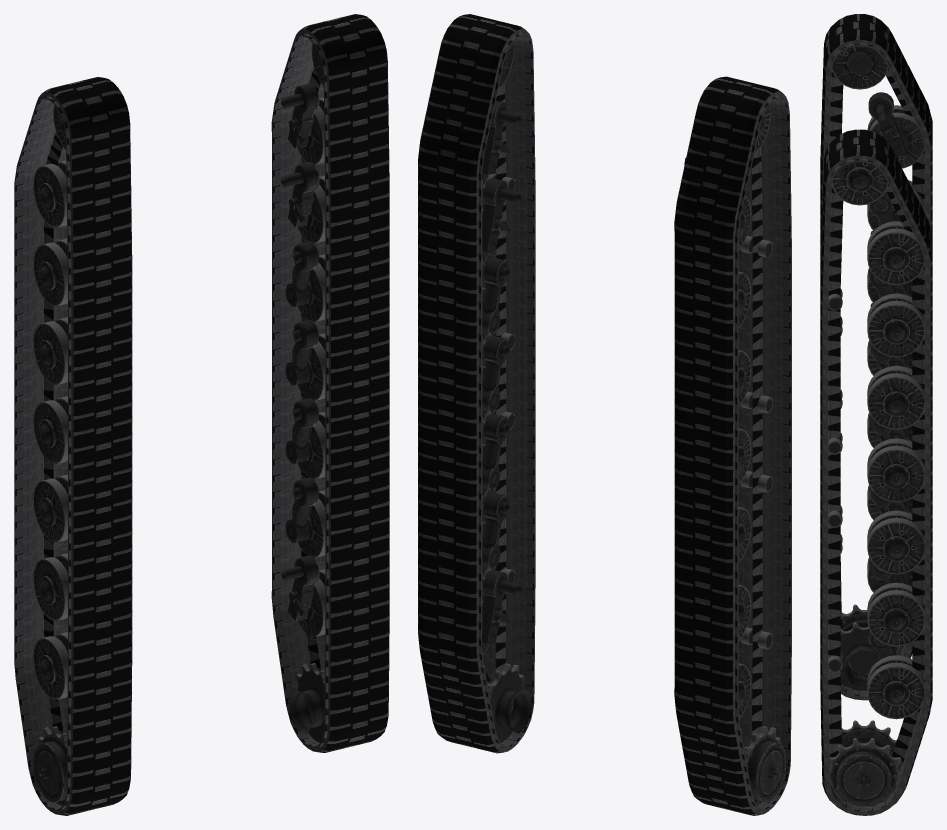
The model's file is Chassis.glb.
The picture shows the model from 3 angles, left to right: view 1: azimuth 30°, elevation 25°; view 2: azimuth 150°, elevation 25°; view 3: azimuth 270°, elevation 25°; orthographic projection. The views are drawn at different scales.
Parts seen in each view (by area): view 1: set_0_group_0, set_1_group_0, set_3_group_0, set_2_group_0; view 2: set_0_group_0, set_1_group_0, set_3_group_0, set_2_group_0; view 3: set_3_group_0, set_1_group_0, set_2_group_0, set_0_group_0.
Part boxes in pixels (<box>): set_0_group_0: <box>14,77,132,815</box>; set_1_group_0: <box>271,14,389,752</box>; set_3_group_0: <box>281,43,325,742</box>; set_2_group_0: <box>33,106,67,805</box>; set_0_group_0: <box>674,76,791,815</box>; set_1_group_0: <box>418,14,535,753</box>; set_3_group_0: <box>482,43,532,743</box>; set_2_group_0: <box>684,105,786,806</box>; set_3_group_0: <box>828,162,924,806</box>; set_1_group_0: <box>820,129,932,815</box>; set_2_group_0: <box>832,46,924,691</box>; set_0_group_0: <box>820,14,932,700</box>.
Bounding box in the file's own units: 3.47 × 7.2 × 1.11.
4 materials, 4 textured.
